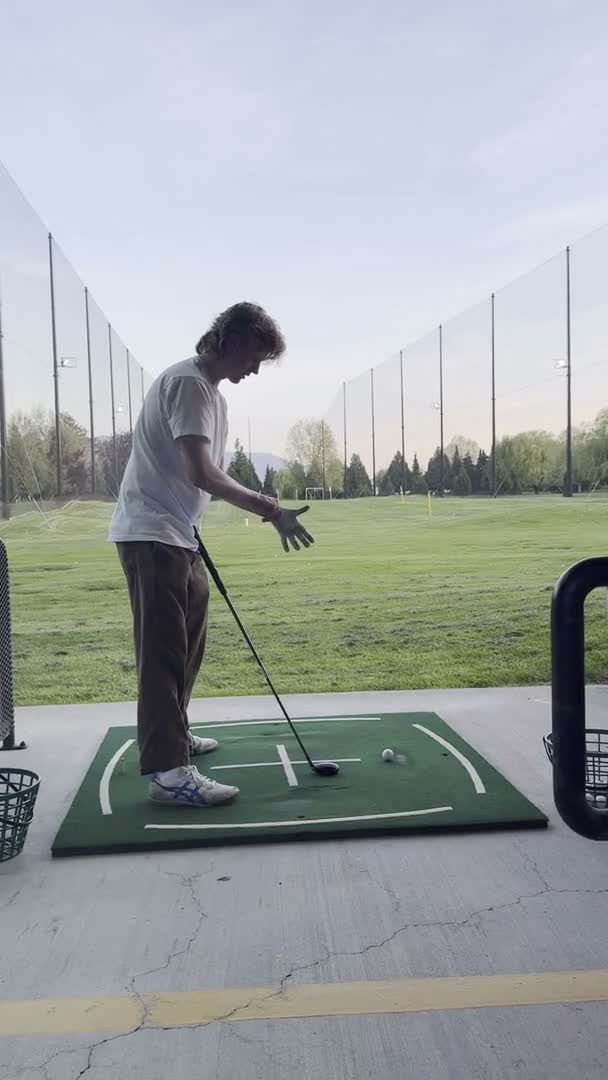Golf Ball: (380, 746, 397, 764)
